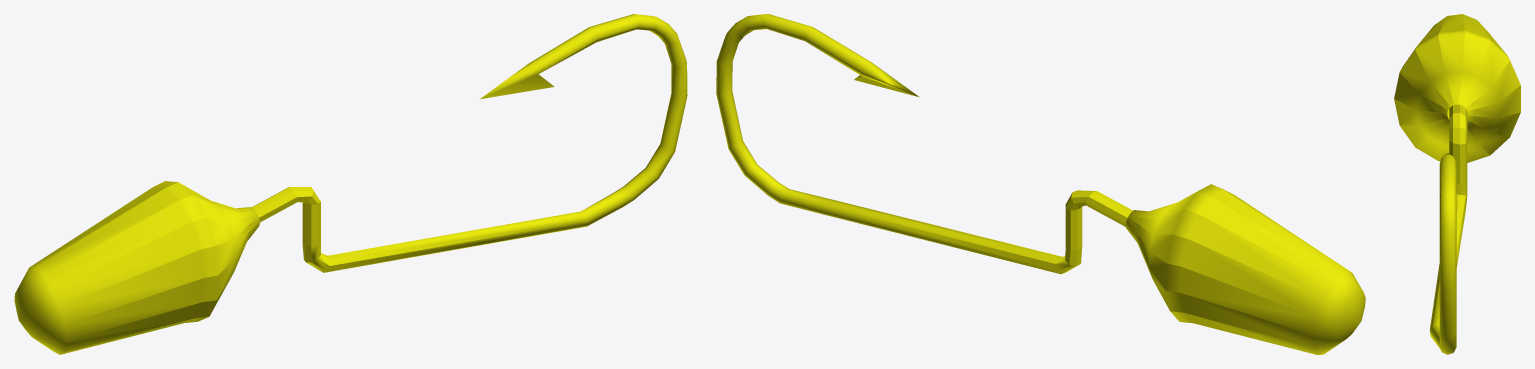
The model's file is JIgHead_L.fbx.
The picture shows the model from 3 angles, left to right: view 1: azimuth 30°, elevation 25°; view 2: azimuth 150°, elevation 25°; view 3: azimuth 270°, elevation 25°; orthographic projection. The views are drawn at different scales.
Parts seen in each view (by area): view 1: polySurface326; view 2: polySurface326; view 3: polySurface326.
Boxes of the visible parts, box(x1,y1,x2,y2) form: polySurface326: box(14, 14, 687, 354); polySurface326: box(716, 14, 1365, 354); polySurface326: box(1394, 14, 1520, 354).
Size of the model in its own units: 0.3215 by 0.0933 by 0.0558.
